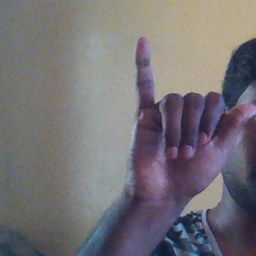J: (123, 32, 256, 194)
